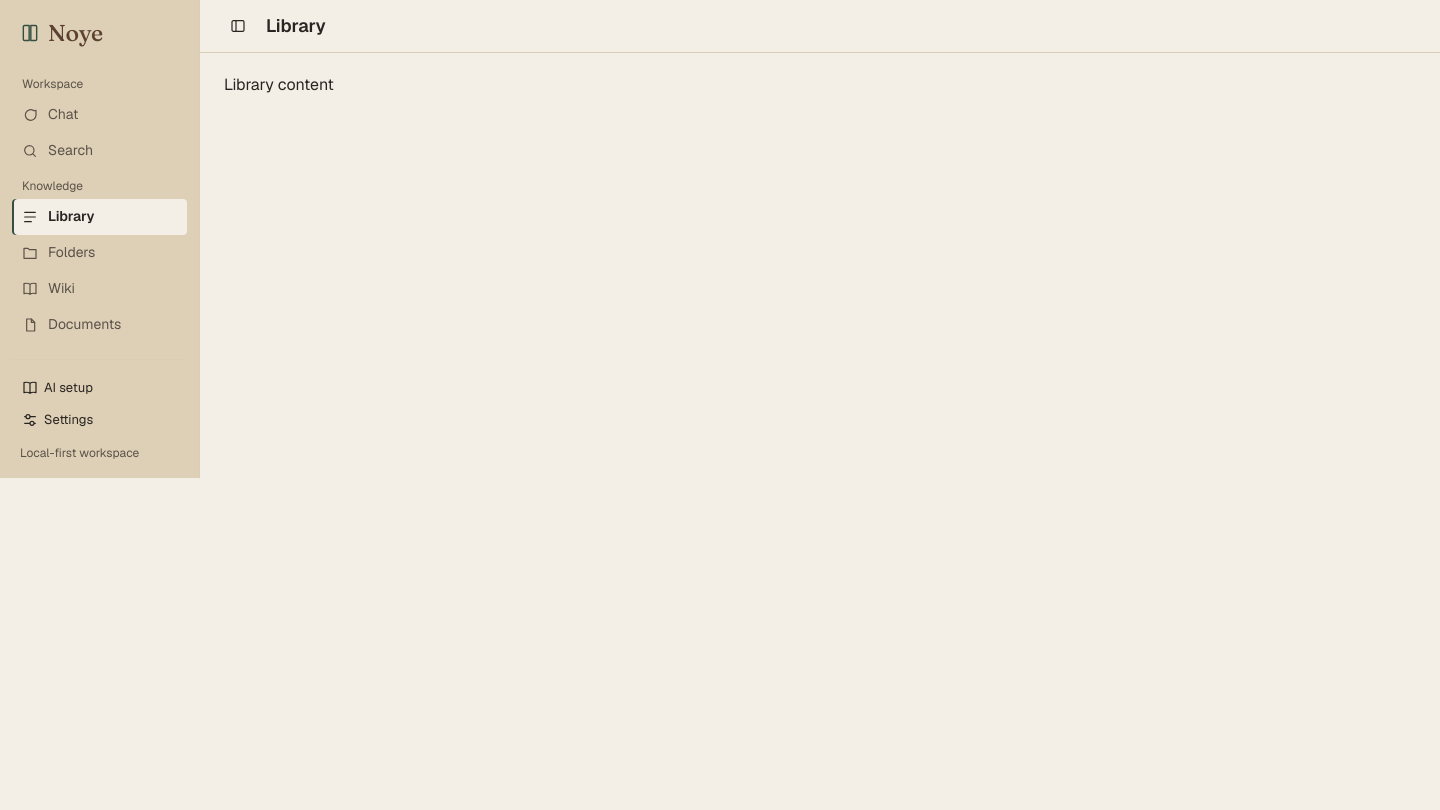
it: desktop startup › restores focus to the guide opener even when a pointer click does not focus it
Click the button "AI setup" at [100, 388], box [12, 372, 187, 404]
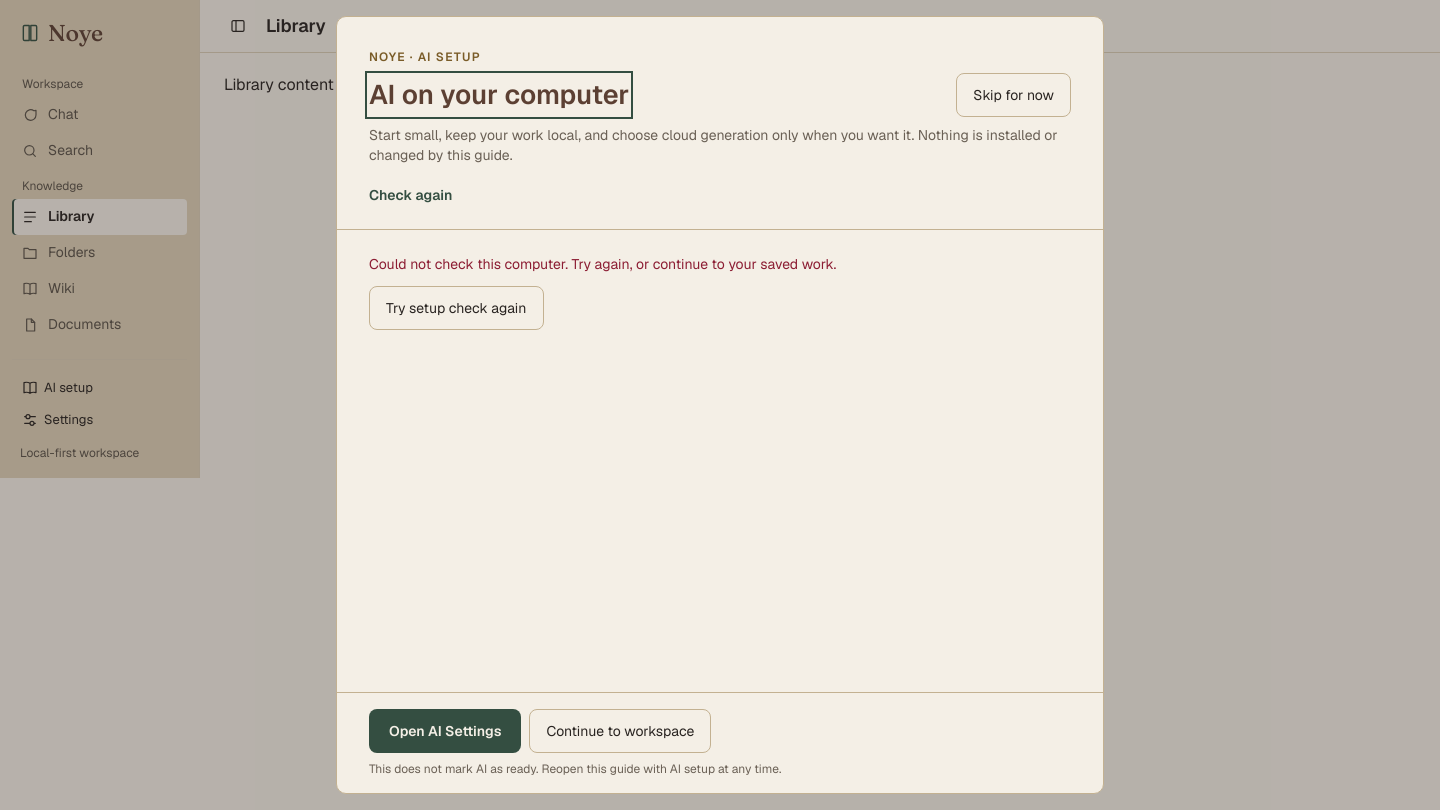
Expected: the message "Could not check this computer. Try again, or continue to your saved work." is shown, [369, 255, 836, 273]
Click the button "Skip for now" at [1014, 95], box [956, 73, 1071, 117]
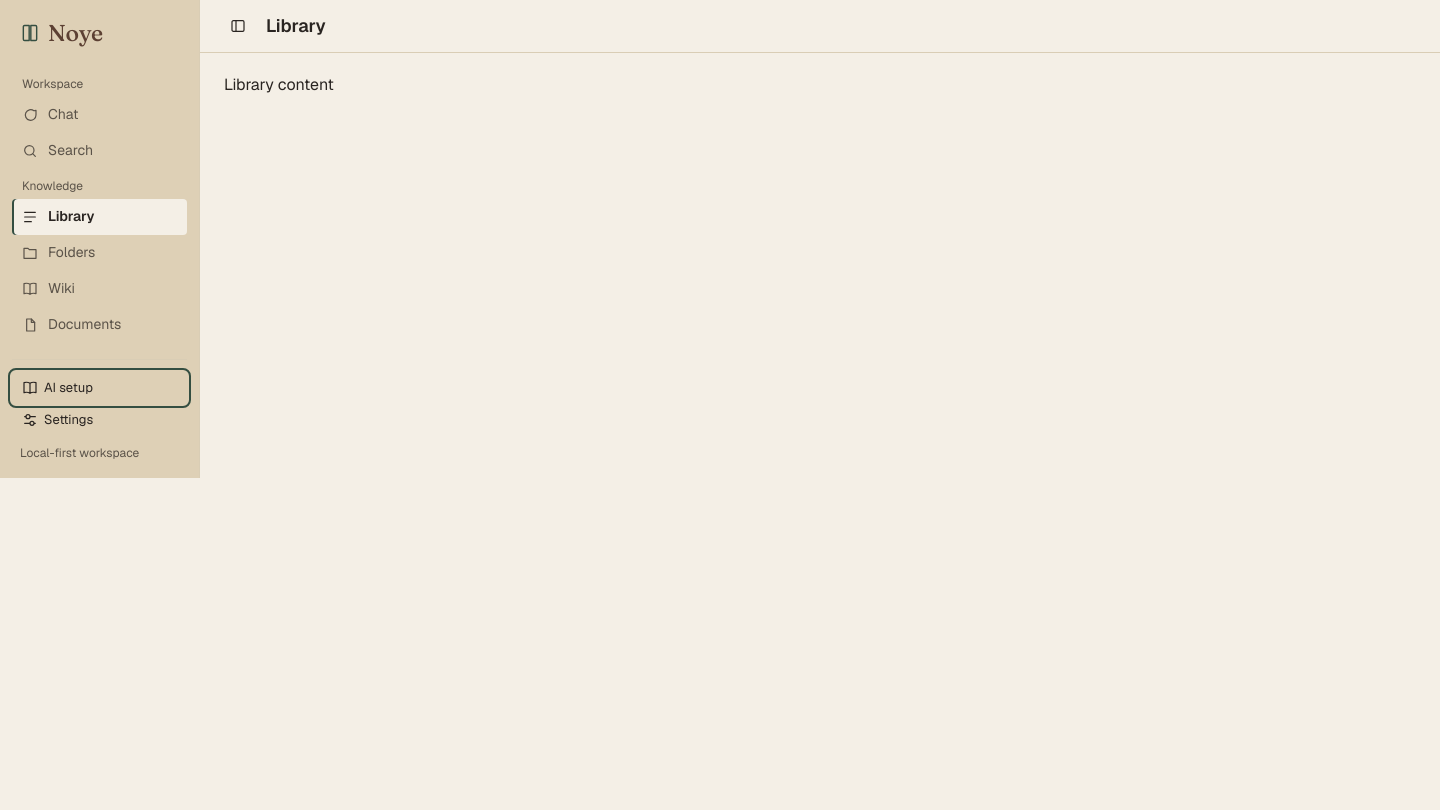
Expected: the dialog is gone
